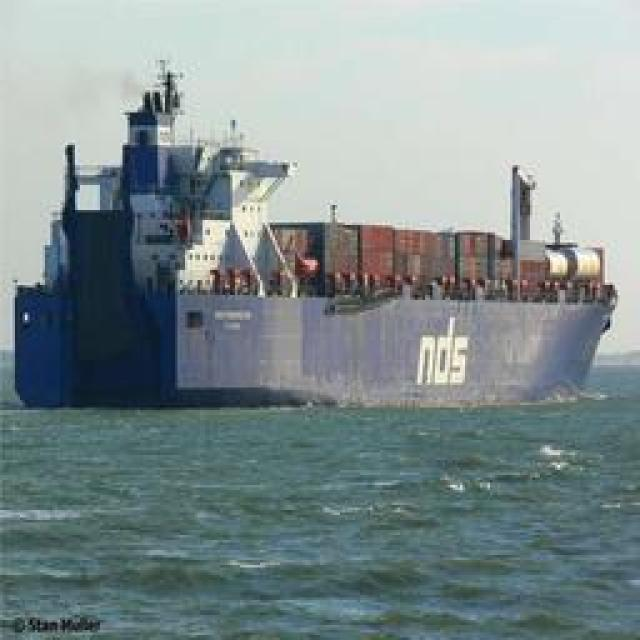CIV_Ship: (100, 70, 618, 412)
